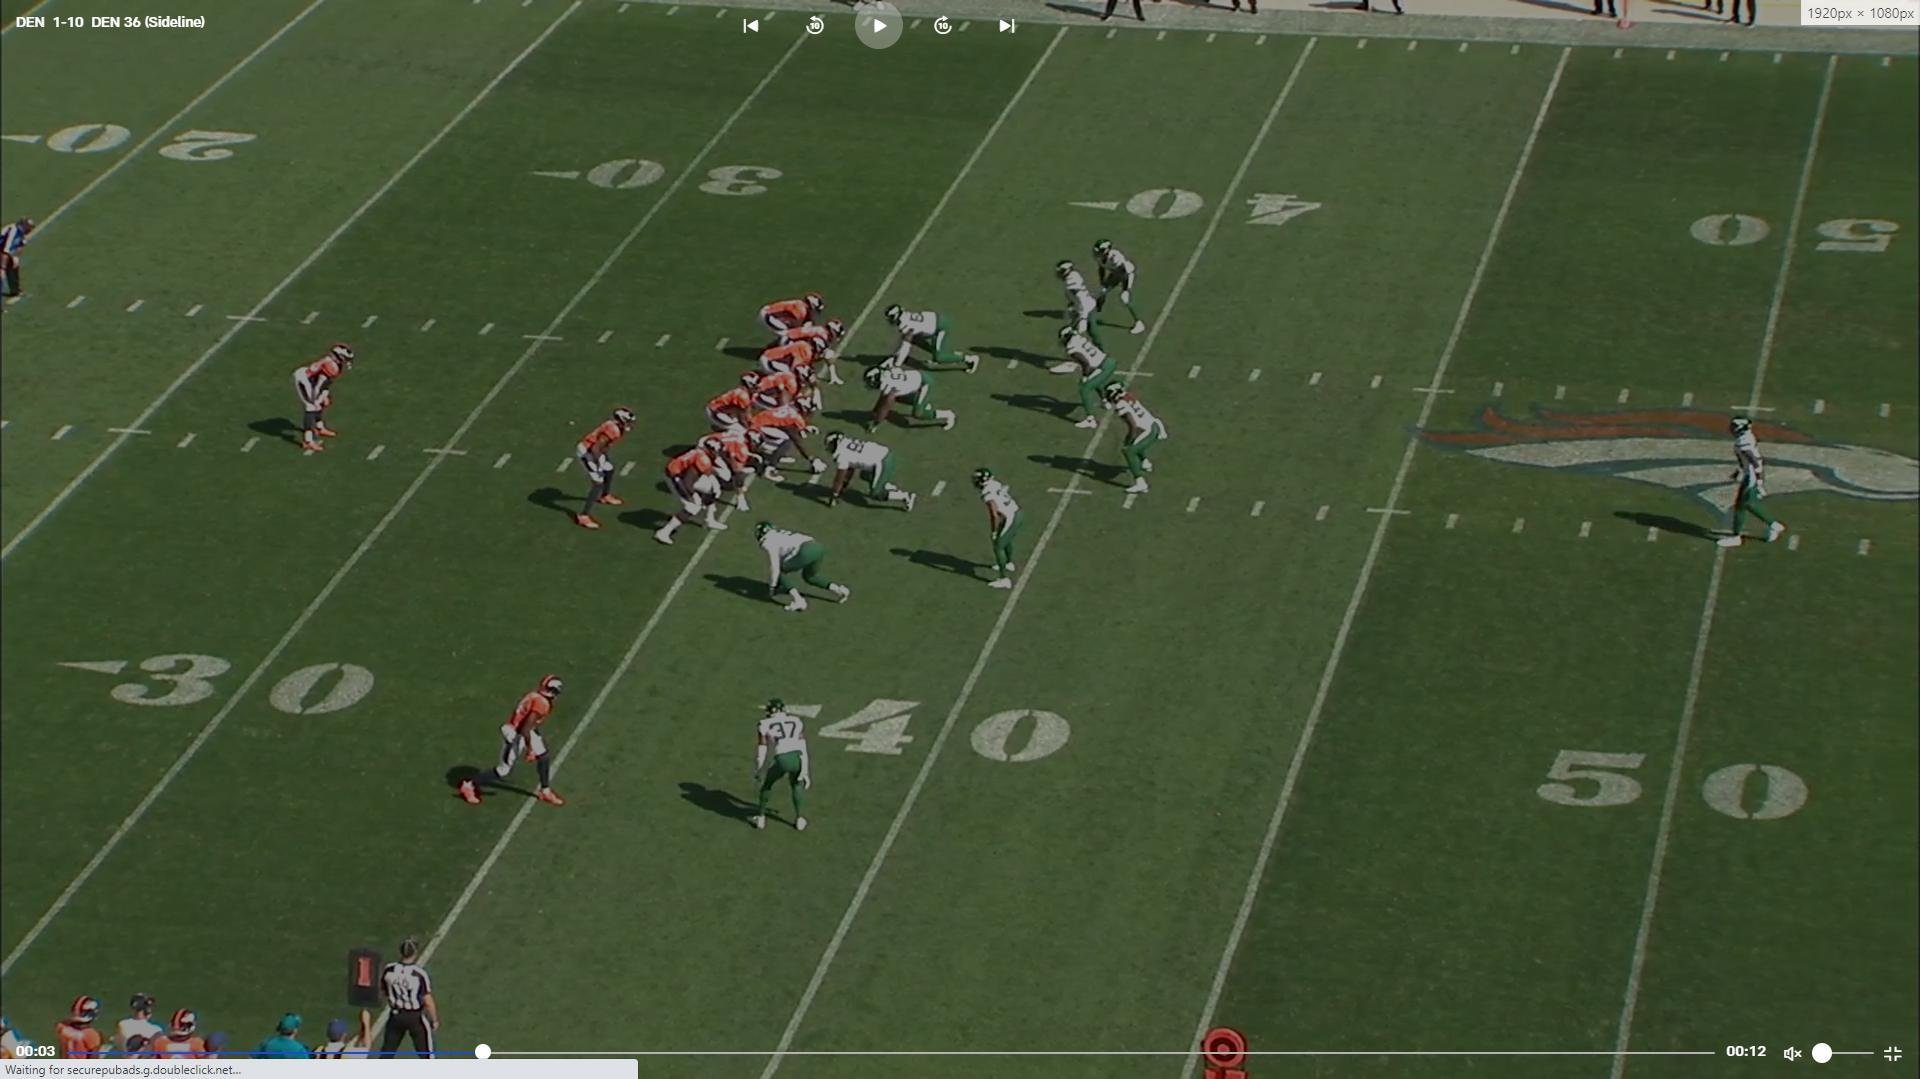defense: (1721, 412, 1797, 557), (755, 693, 820, 838), (757, 521, 858, 614), (818, 432, 919, 516), (1099, 380, 1167, 498), (968, 465, 1023, 596), (887, 301, 980, 375), (868, 365, 961, 438), (1051, 326, 1113, 433), (1088, 236, 1146, 339), (1051, 256, 1107, 355)
oline: (652, 430, 739, 545), (694, 424, 765, 518), (751, 394, 826, 481), (757, 333, 830, 383), (750, 363, 819, 411)
qb: (708, 373, 767, 434)
ref: (370, 936, 445, 1056), (0, 212, 41, 319)
skill: (458, 669, 577, 817), (570, 404, 632, 532), (292, 339, 359, 454), (778, 316, 854, 389), (758, 288, 826, 344)
